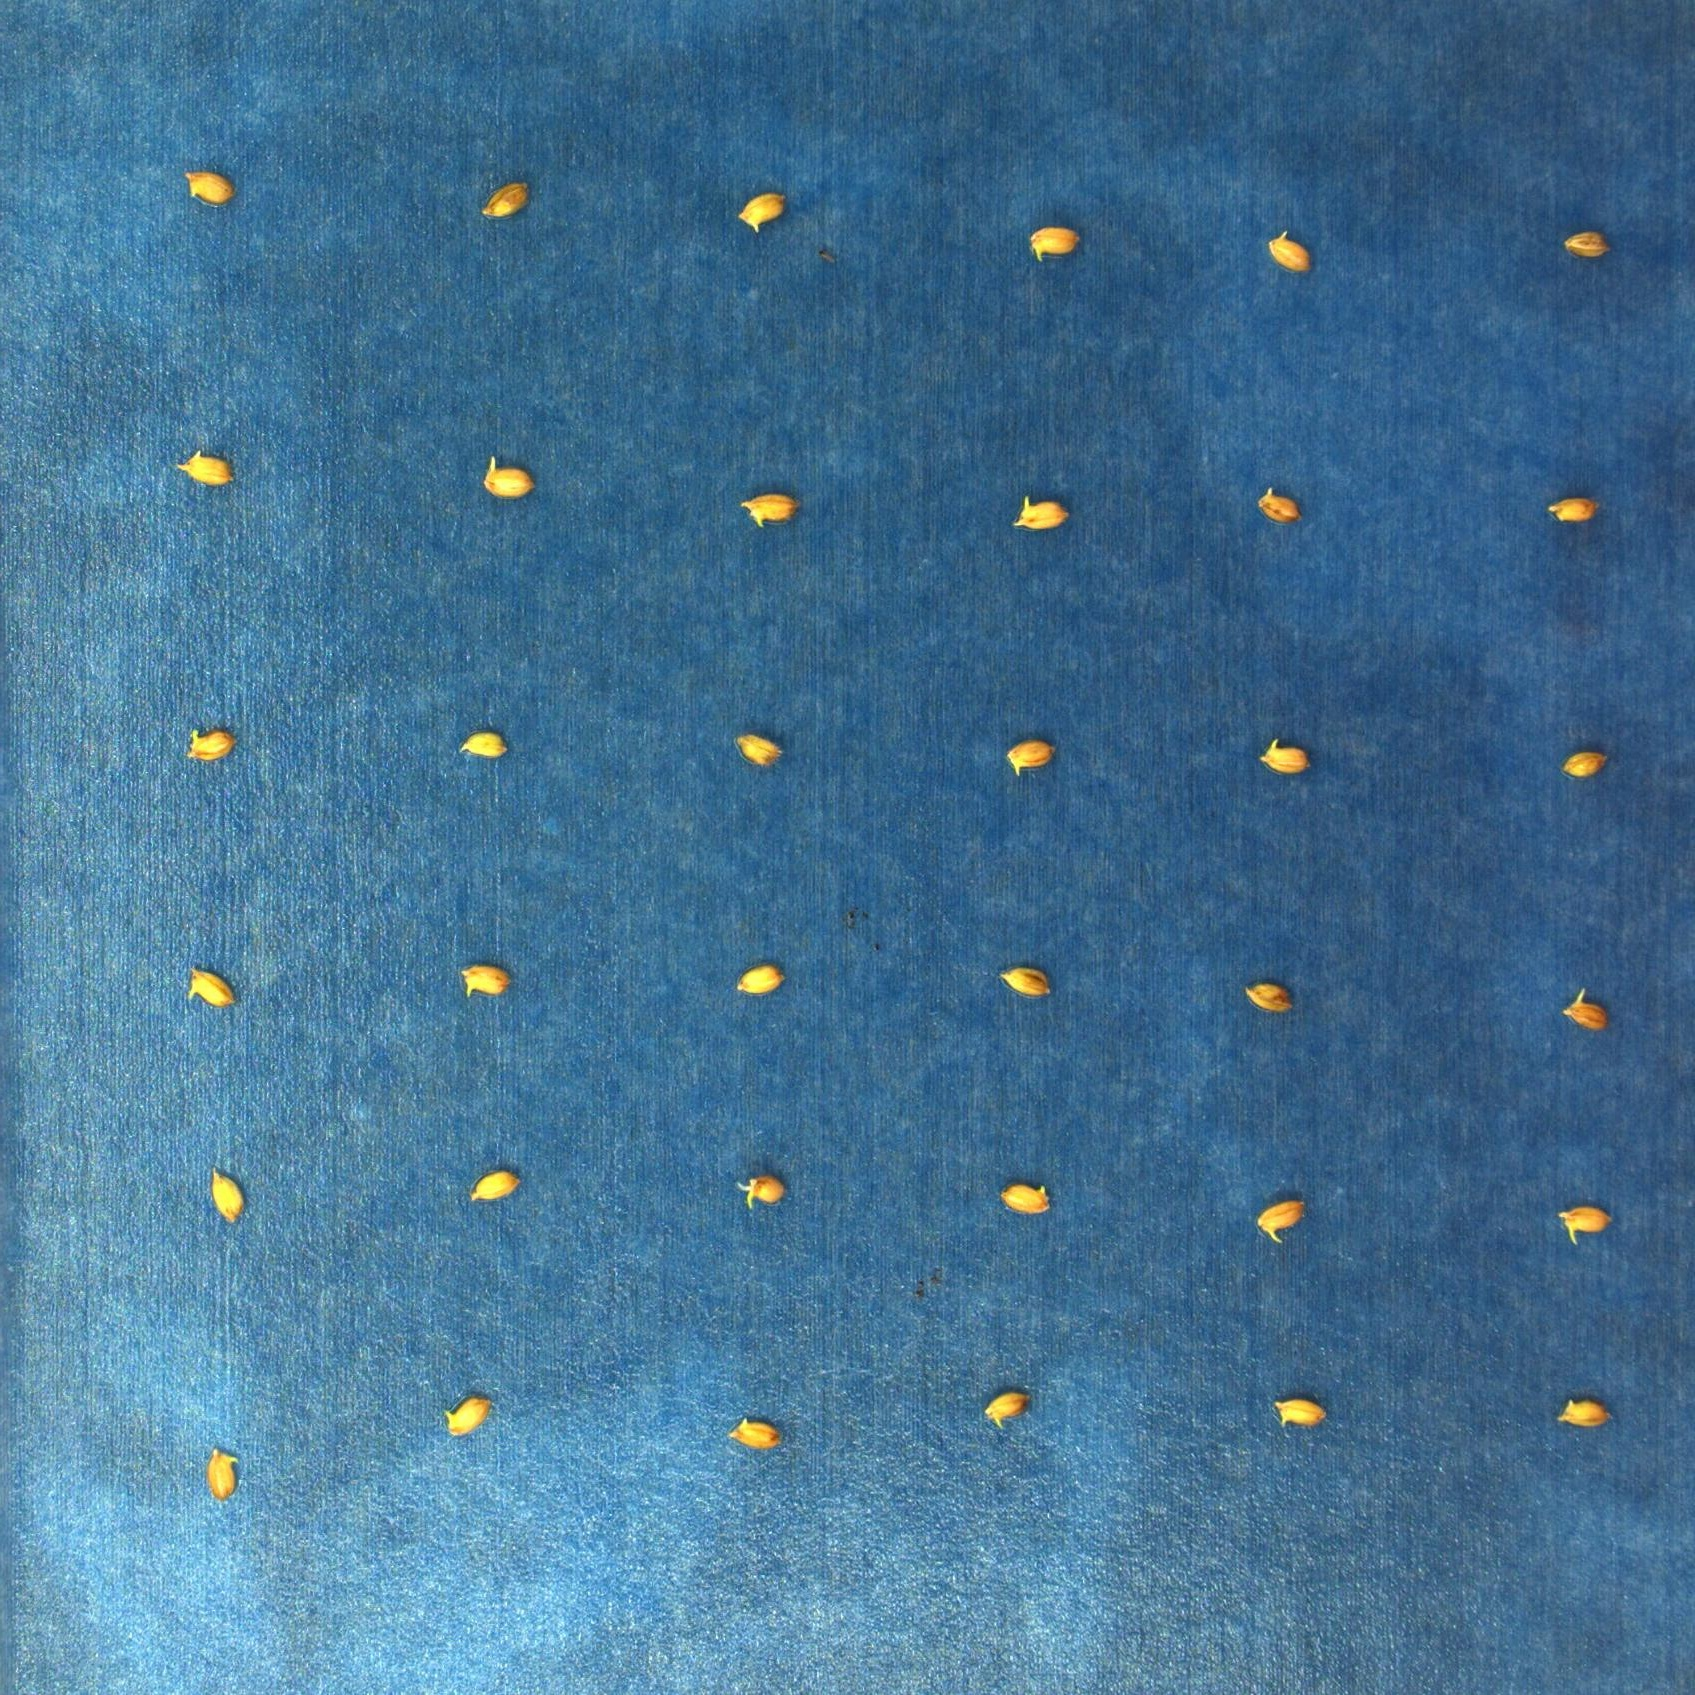not sprout: (480, 453, 534, 498), (1256, 1197, 1307, 1243), (206, 1166, 247, 1225), (177, 452, 237, 490), (1254, 737, 1312, 778), (1558, 989, 1610, 1034), (1001, 739, 1060, 778), (183, 965, 237, 1007), (1558, 1206, 1613, 1248), (1023, 224, 1087, 259), (183, 166, 239, 206), (441, 1395, 490, 1440), (736, 490, 801, 525), (1007, 494, 1069, 529), (477, 177, 529, 217), (459, 959, 512, 1000), (185, 726, 237, 765), (1552, 1399, 1617, 1430), (1267, 228, 1312, 272), (736, 191, 785, 230), (205, 1448, 244, 1496), (998, 1180, 1052, 1214), (734, 733, 785, 768), (997, 967, 1052, 1000), (470, 1167, 520, 1203), (986, 1388, 1028, 1428), (728, 1419, 782, 1450), (1256, 487, 1302, 523), (734, 964, 787, 993), (1558, 751, 1613, 779), (1271, 1399, 1326, 1426), (1565, 227, 1613, 258), (737, 1180, 789, 1208), (1546, 497, 1599, 523), (1243, 986, 1293, 1014), (459, 733, 508, 761)
